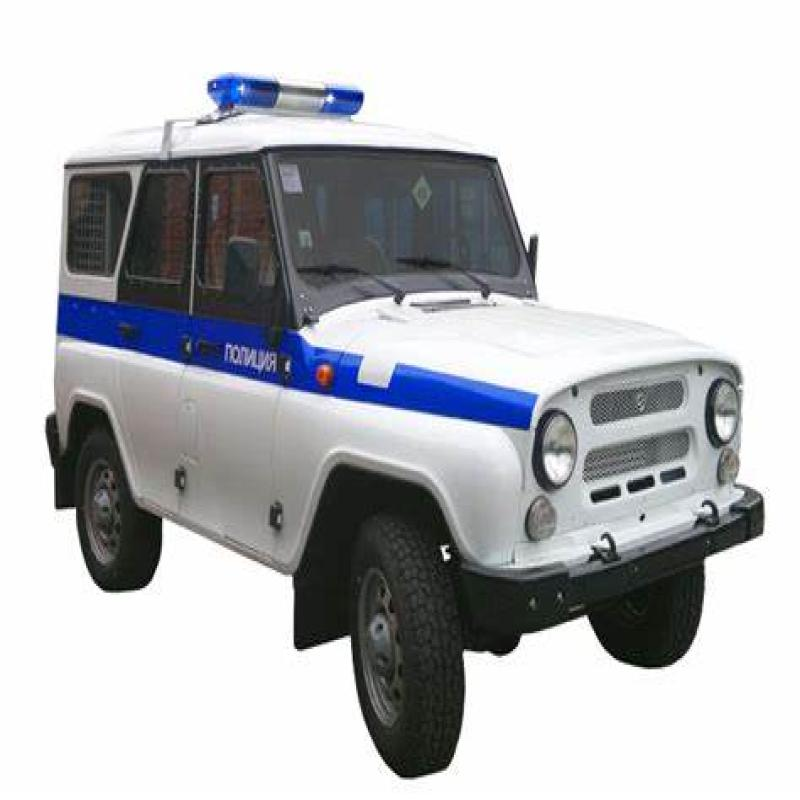AmbulanceSiren: (195, 68, 364, 133)
